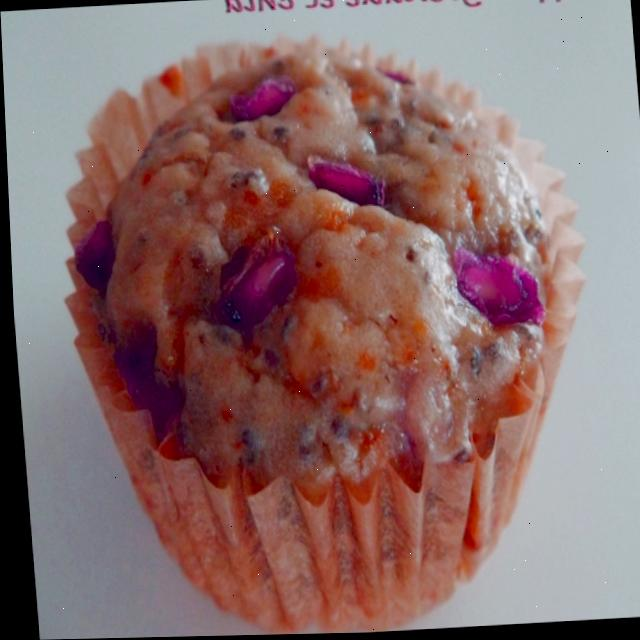炸货点心: (29, 0, 613, 628)
面包点心: (29, 0, 613, 628)
